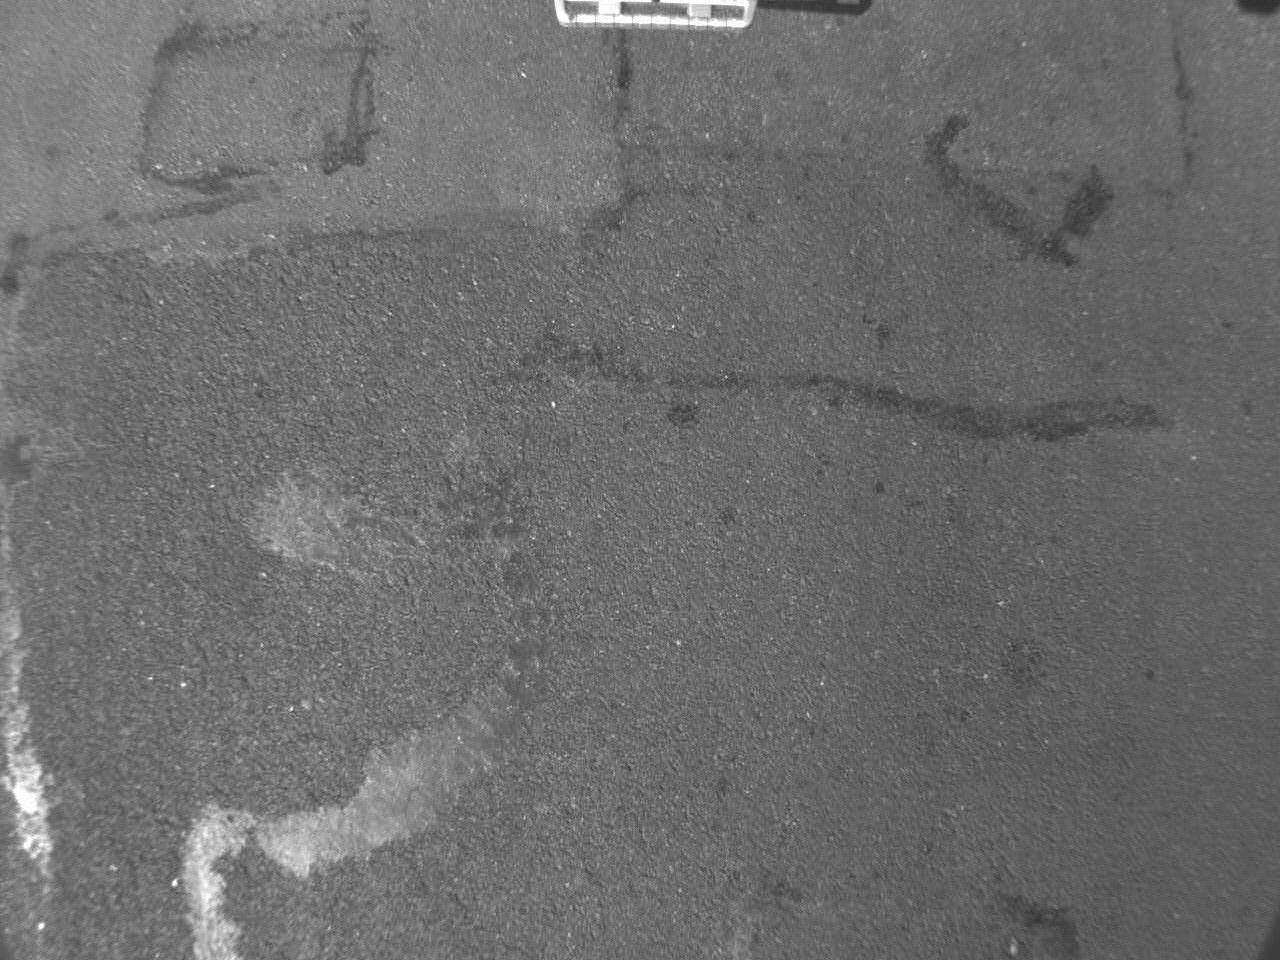sealed: (163, 453, 561, 953)
